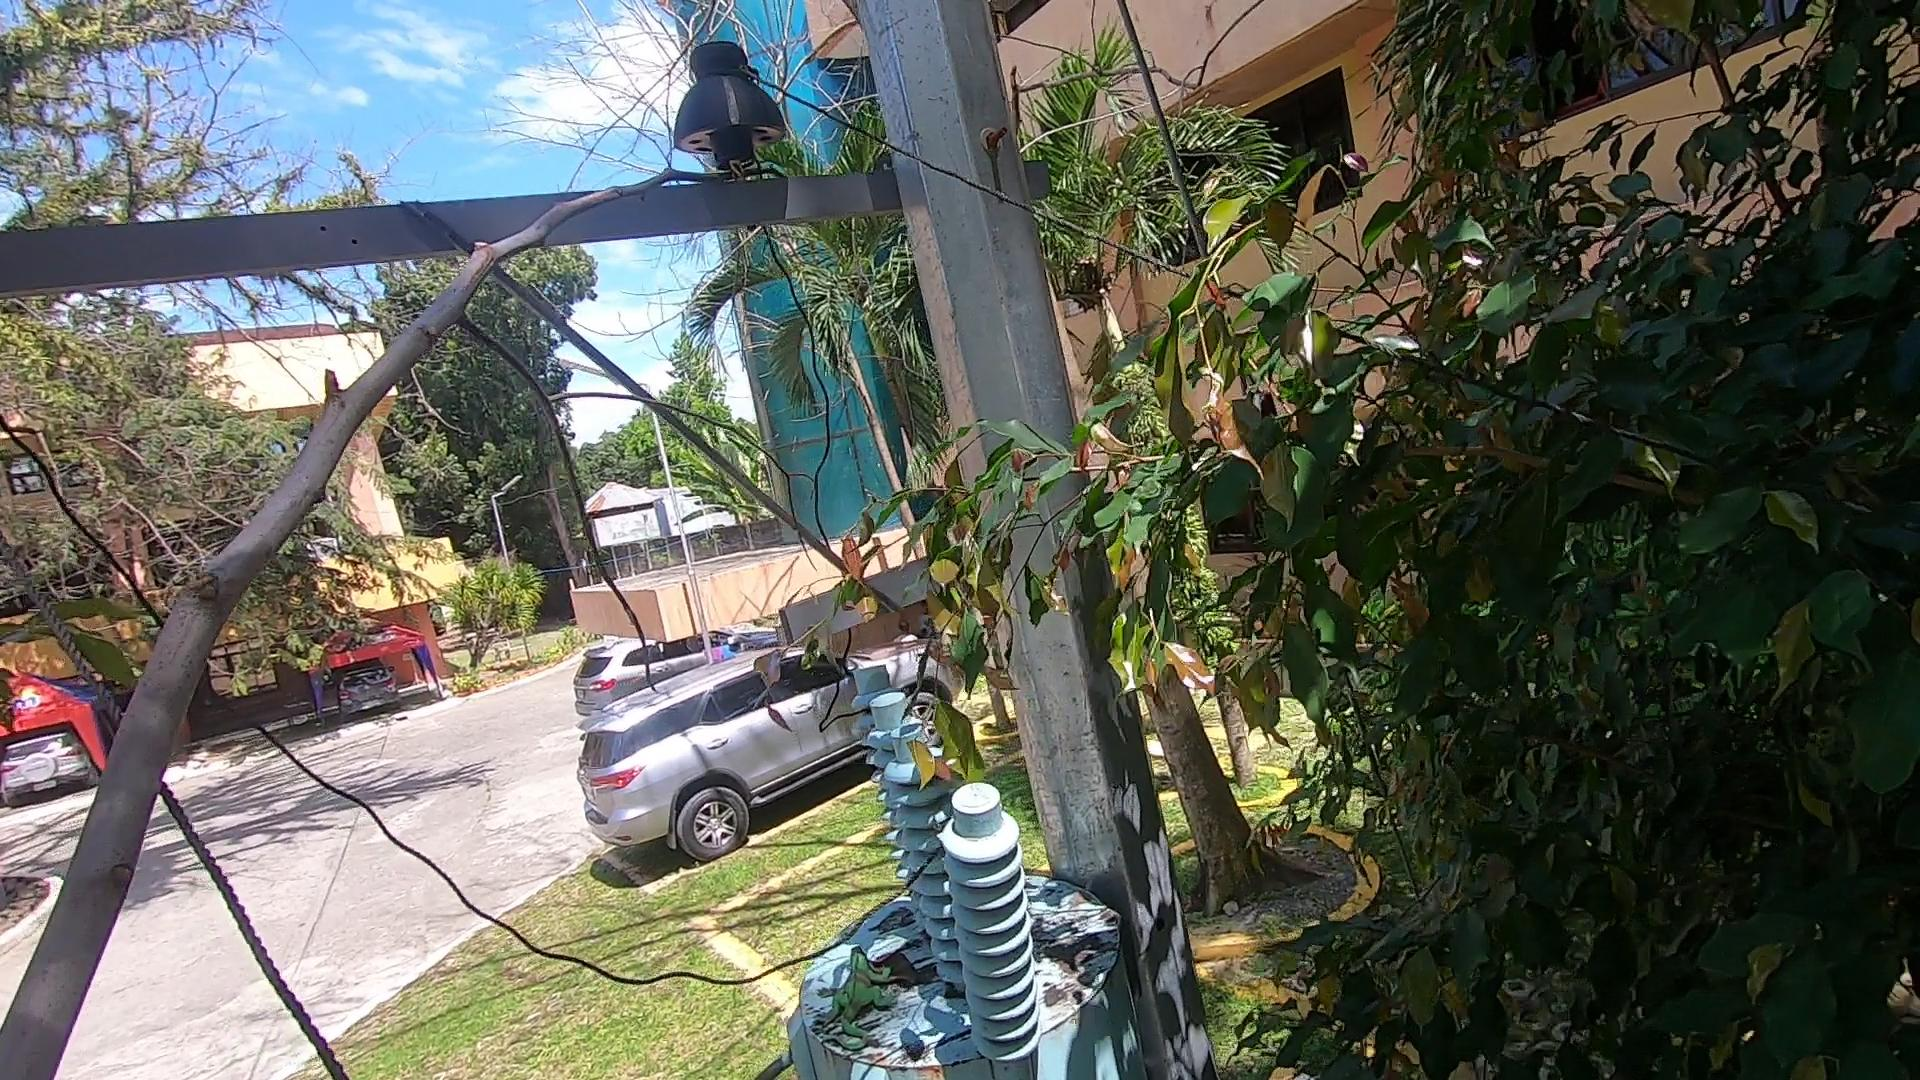branch with leaves: (760, 434, 1104, 789)
leaf: (1031, 915, 1118, 980), (866, 949, 942, 996)
tree branch: (20, 102, 736, 1080)
